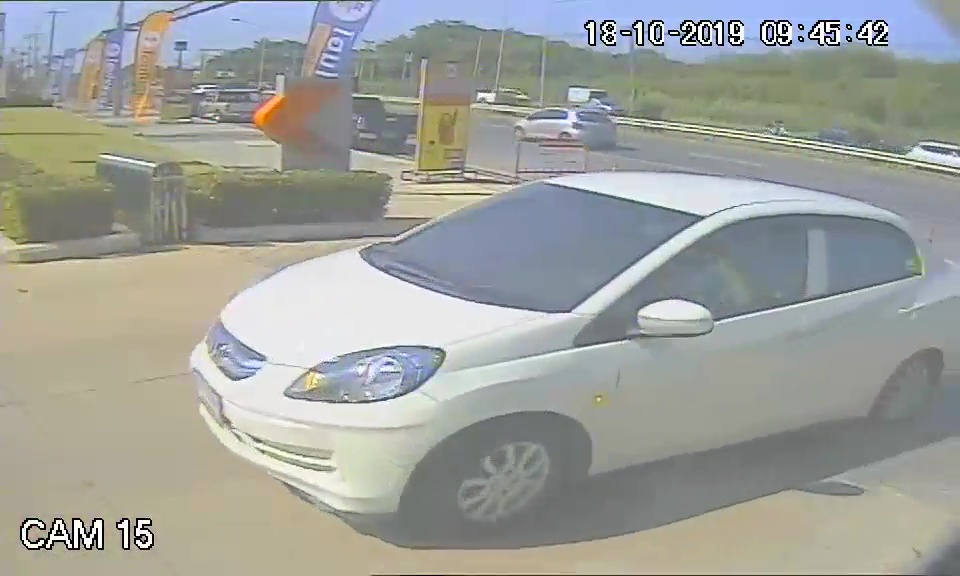sedan: (185, 167, 960, 533)
